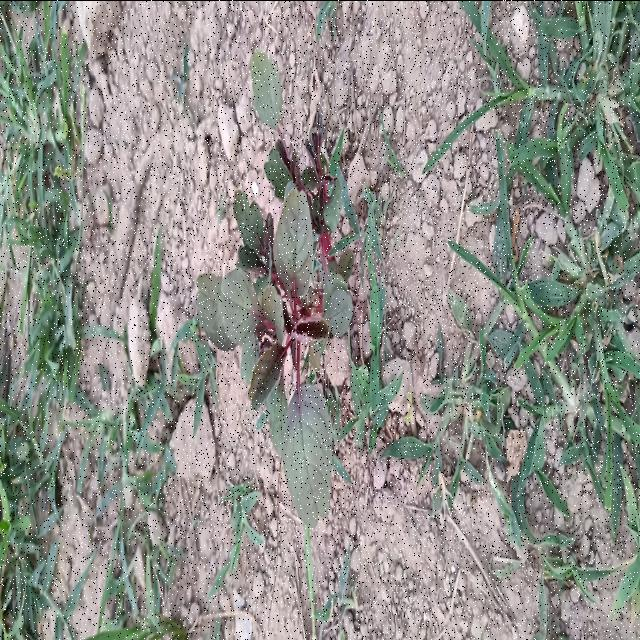plant: (196, 48, 353, 525)
